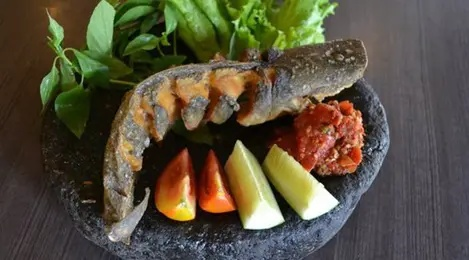pecel_lele: (101, 50, 270, 162)
